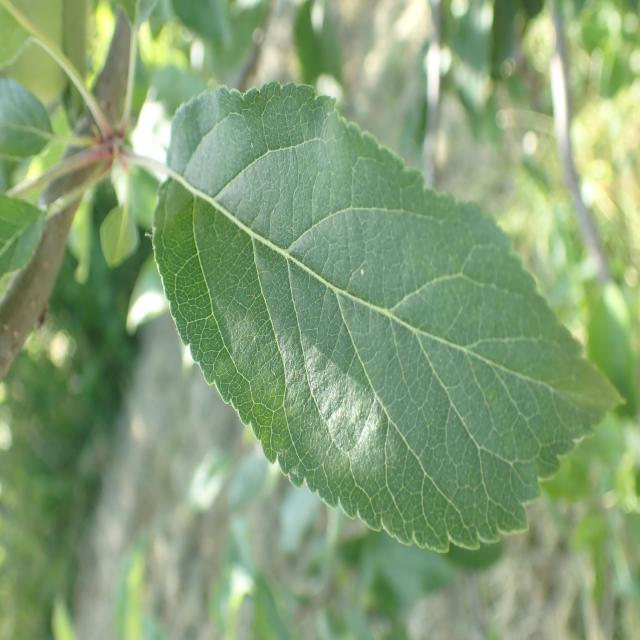healthy: (152, 80, 628, 554)
